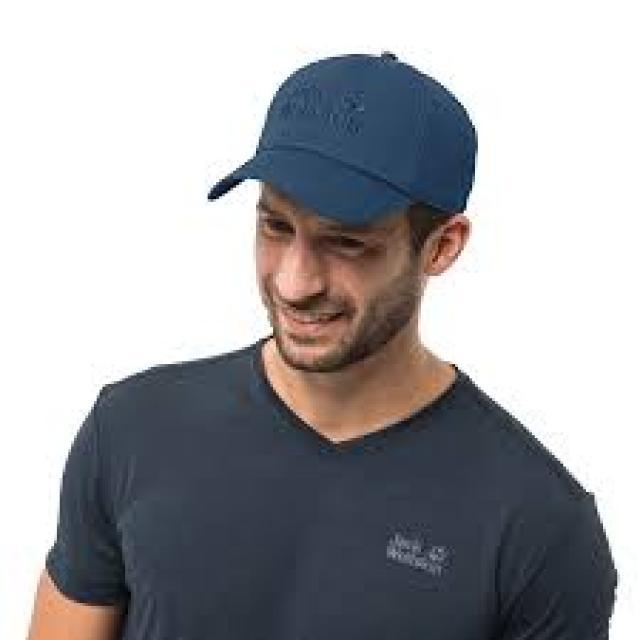cap: (170, 36, 504, 267)
